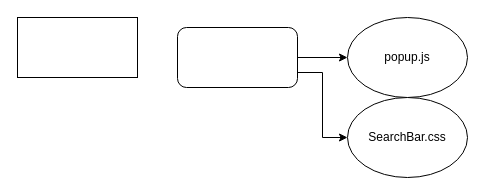
This 485x195 diagram has some shape labels left out. Each missing label, with the box of its shape:
popup window: (16, 16, 138, 78)
popup.html: (176, 26, 298, 88)
